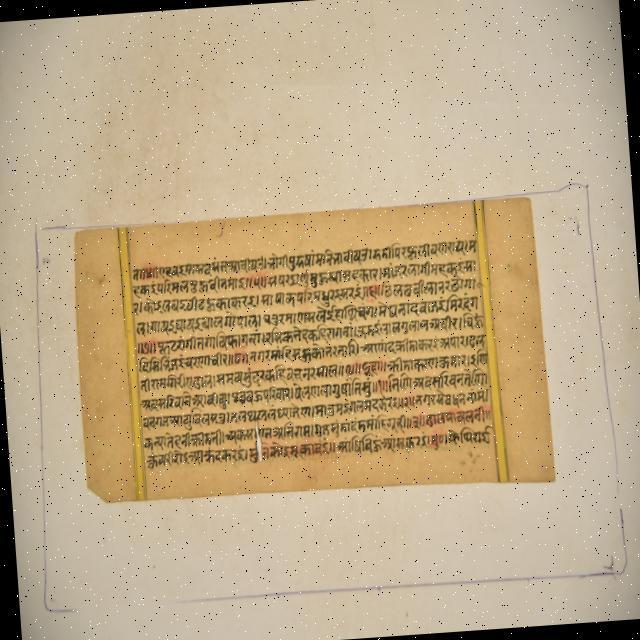text_paragraph: (74, 198, 554, 500)
